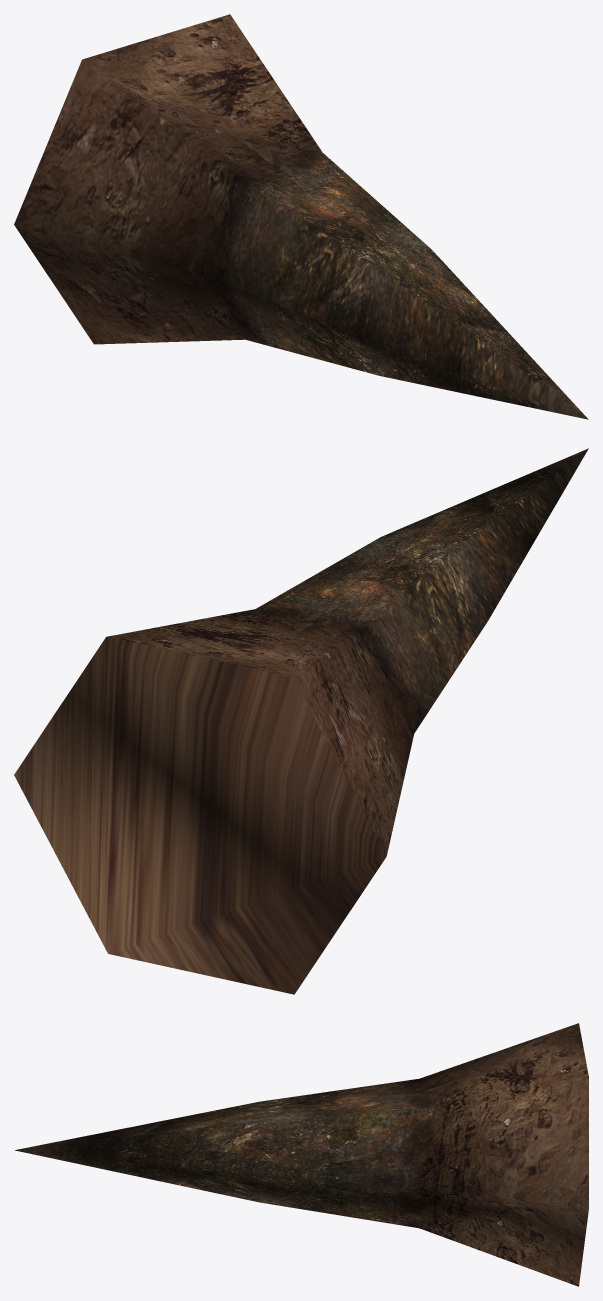
File: stalagmite_01.obj
3 views of the same model, one above another, from view 1: azimuth 30°, elevation 25°; view 2: azimuth 150°, elevation 25°; view 3: azimuth 270°, elevation 25° (orthographic). The views are drawn at different scales.
Parts seen in each view (by area): view 1: (null); view 2: (null); view 3: (null).
Part boxes in pixels (x1,y1,x2,y2): (null): (14,14,588,419); (null): (14,448,588,994); (null): (15,1023,588,1286).
Size of the model in its own units: 3.8 by 3.33 by 8.26.
